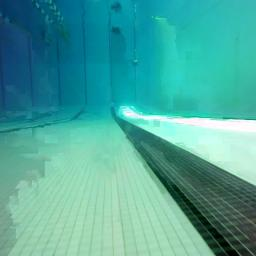Full: (111, 26, 122, 34), (132, 58, 138, 64)
